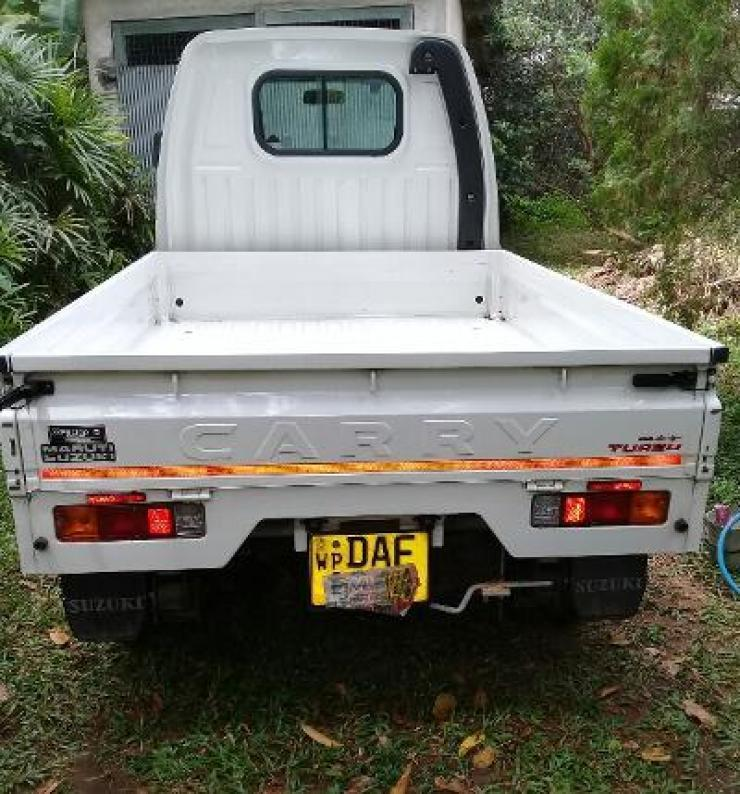truck: (1, 26, 729, 642)
